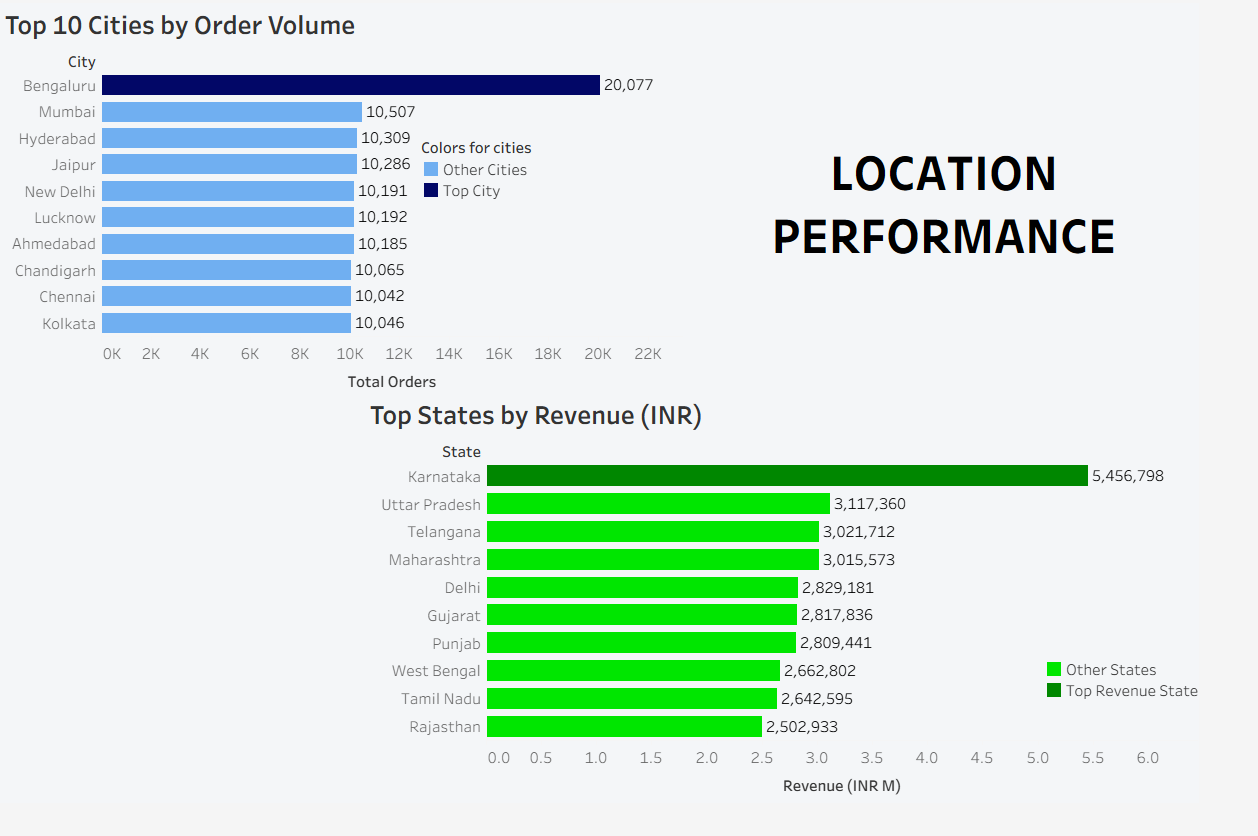

Layout of this report page (visuals, bound fields, positions):
{"tool":"tableau","page":{"name":"LOCATION PERFORMANCE","canvas":[1200,800],"ordinal":2},"visuals":[{"type":"worksheet","title":"Top 10 Cities by Order Volume","mark":"Automatic","rows":["City"],"cols":["Calculation_0994535951753216"],"box":[2,0,682,396]},{"type":"text","box":[717,73,456,253]},{"type":"legend","title":"Top 10 Cities by Order Volume","param":"[federated.0wbnxqv03bbuuo1epee1f0hm8t7l].[none:Calculation_0994535972876294:nk]","box":[422.4,134,168,64]},{"type":"worksheet","title":"Top States by Revenue (INR)","mark":"Bar","rows":["State"],"cols":["Calculation_0994535975579656"],"box":[367,390,832,410]},{"type":"legend","title":"Top States by Revenue (INR)","param":"[federated.0wbnxqv03bbuuo1epee1f0hm8t7l].[none:Calculation_0994535975788553:nk]","box":[1045,656,159,64]}]}

Visuals, with their boxes in screenshot pixels (x1, y1, x2, y2), scaled from the page's 1200x800 canvas onto the 1258x836 screenshot:
"Top 10 Cities by Order Volume" worksheet: select_region(2, 0, 717, 414)
text: select_region(752, 76, 1230, 341)
"Top 10 Cities by Order Volume" legend: select_region(443, 140, 619, 207)
"Top States by Revenue (INR)" worksheet (Bar marks): select_region(385, 408, 1257, 835)
"Top States by Revenue (INR)" legend: select_region(1096, 686, 1257, 752)
